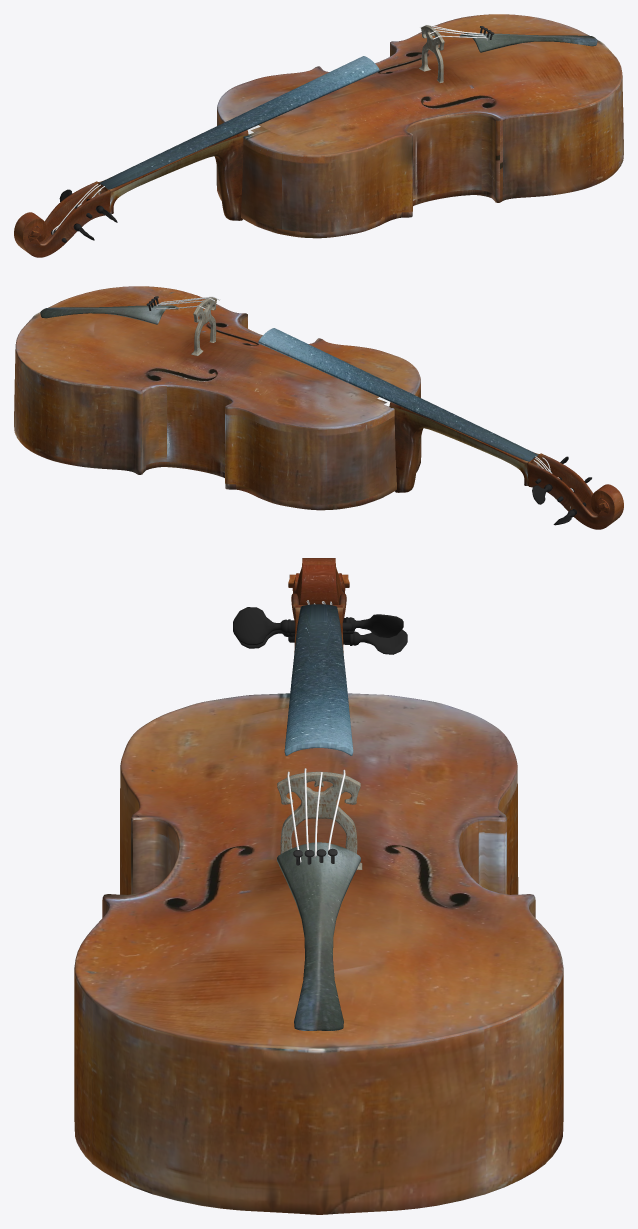
The model's file is cello-antique.glb.
3 views of the same model, one above another, from view 1: azimuth 30°, elevation 25°; view 2: azimuth 150°, elevation 25°; view 3: azimuth 270°, elevation 25° (orthographic). The views are drawn at different scales.
Parts seen in each view (by area): view 1: body, neck, fingerboard, fittings, bridge, stringEnds; view 2: body, neck, fingerboard, fittings, bridge, stringEnds; view 3: body, fittings, fingerboard, bridge, neck, stringEnds.
Part boxes in pixels (bbox=[...]): body: bbox=[216, 14, 623, 238]; neck: bbox=[14, 130, 248, 257]; fingerboard: bbox=[99, 56, 379, 189]; fittings: bbox=[51, 26, 597, 242]; bridge: bbox=[419, 25, 444, 82]; stringEnds: bbox=[52, 24, 487, 234]; body: bbox=[14, 286, 421, 510]; neck: bbox=[389, 402, 623, 529]; fingerboard: bbox=[258, 328, 538, 461]; fittings: bbox=[40, 296, 591, 525]; bridge: bbox=[191, 297, 216, 355]; stringEnds: bbox=[155, 296, 573, 508]; body: bbox=[74, 693, 563, 1214]; fittings: bbox=[233, 607, 407, 1030]; fingerboard: bbox=[284, 604, 353, 755]; bridge: bbox=[277, 771, 362, 869]; neck: bbox=[288, 558, 349, 652]; stringEnds: bbox=[287, 600, 345, 862].
Size of the model in its own units: 43.17 by 10.18 by 15.65.
Materials: 9 (5 with a texture image).
